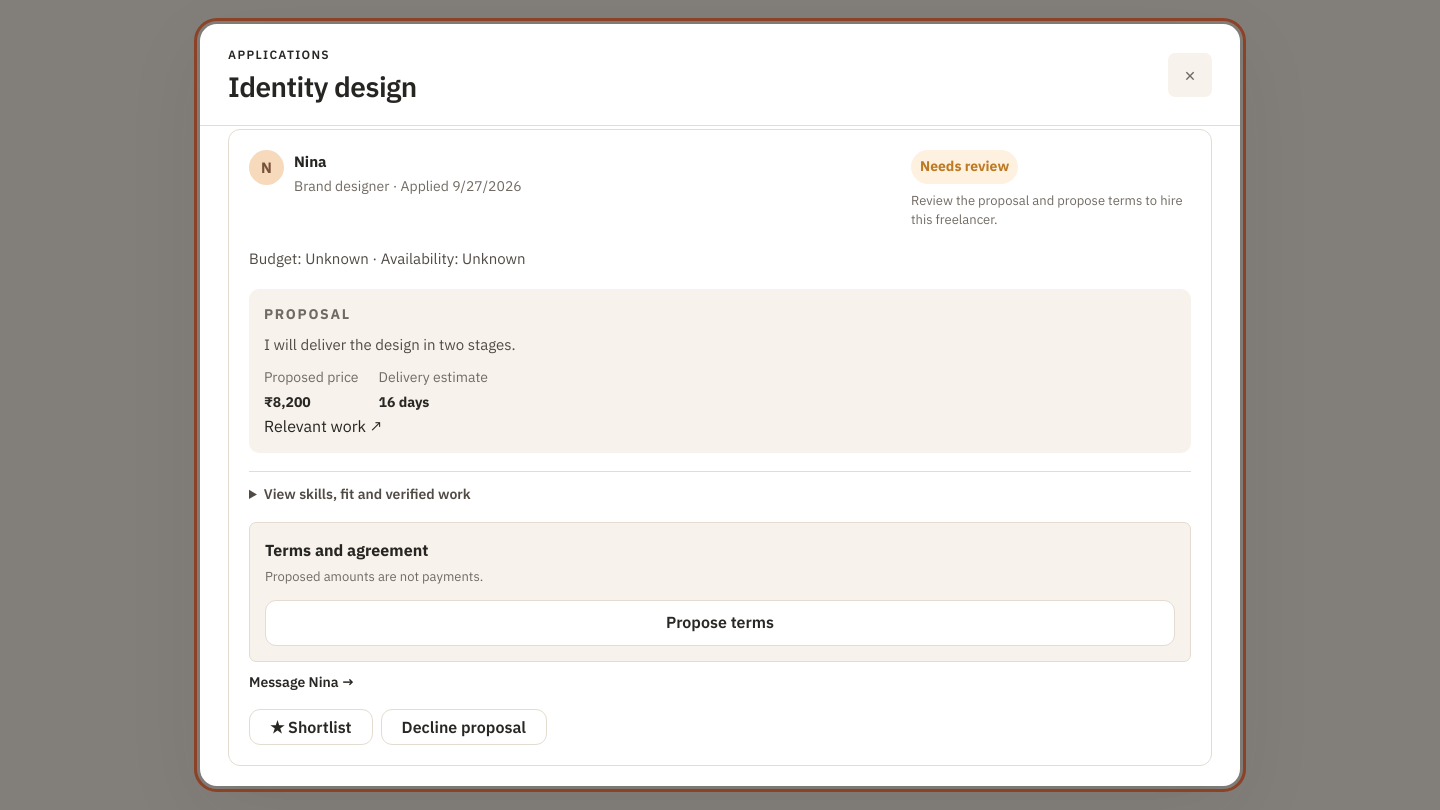
Scenario: client can compare, shortlist and start a structured offer for a pending applicant
The width and height of the screenshot is (1440, 810).
(page scrolled)
Check: the text "Nina" is shown, box [294,152,327,171]
Check: the text "Brand designer · Applied 9/27/2026" is shown, box [294,177,522,195]
Click the button "★ Shortlist" at {"x": 311, "y": 727}, box [249,709,373,745]
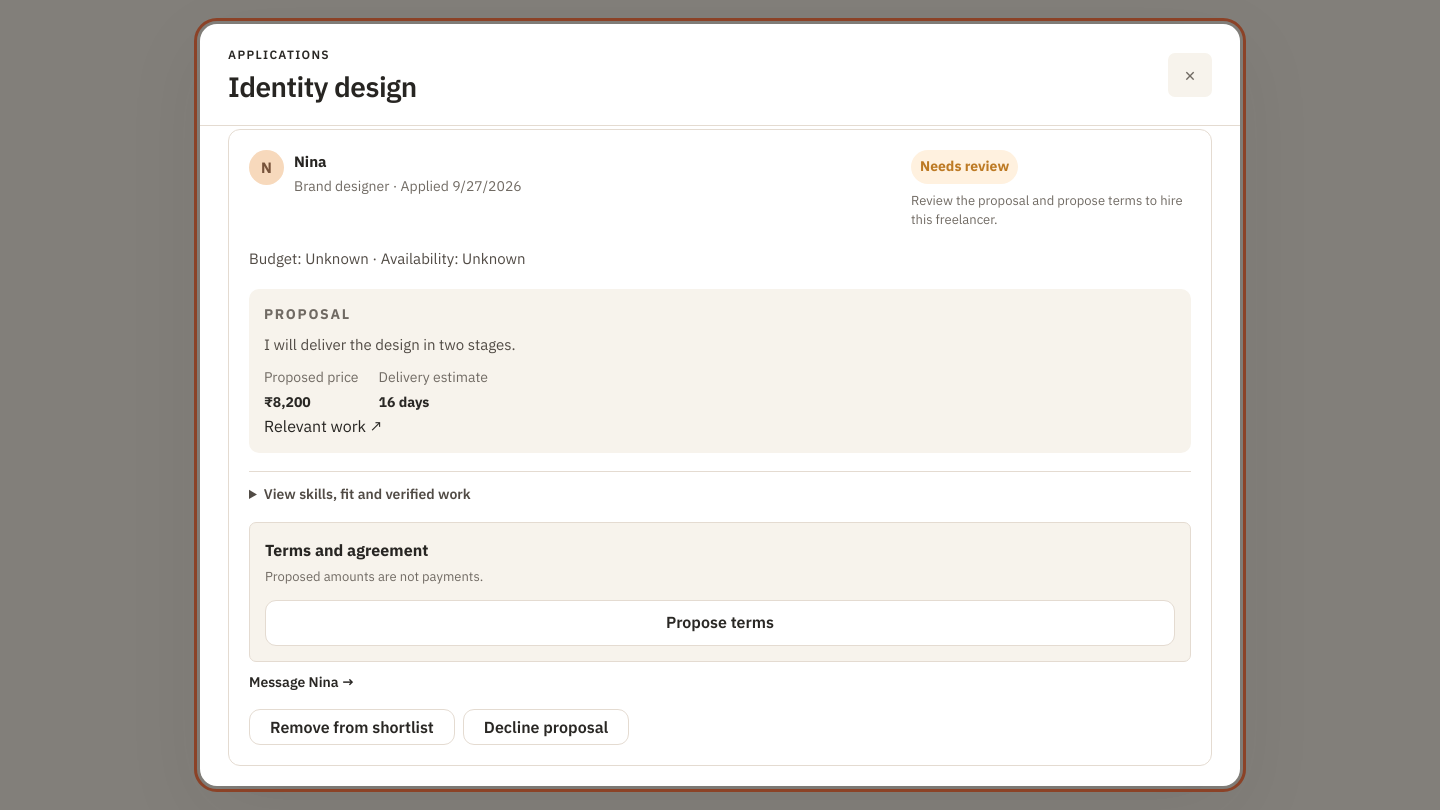
Check: the text "Nina" is shown, box [294,152,327,171]
Check: the button "Remove from shortlist" is shown, box [249,709,455,745]
